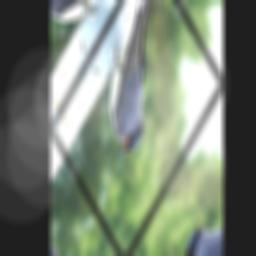Swallow: (78, 0, 195, 169)
